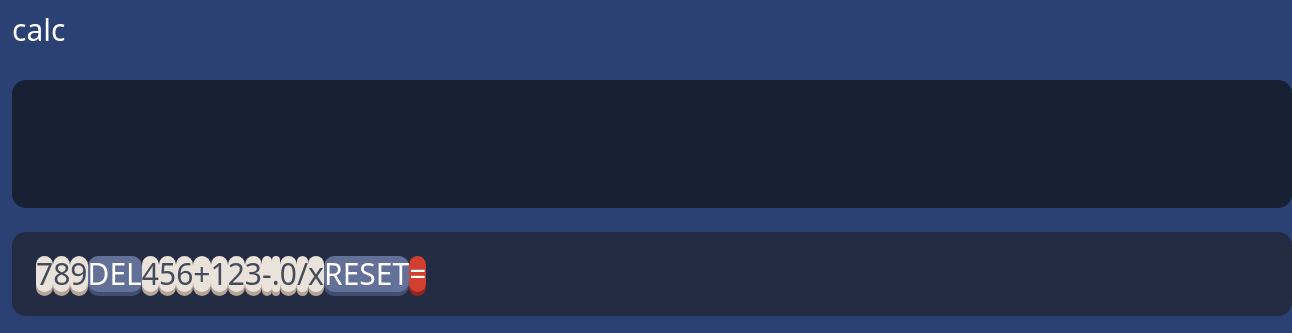
calculator › should render the pressed number
Click the button with test id "key-number" showing "2" at (236, 274), box [228, 256, 245, 292]
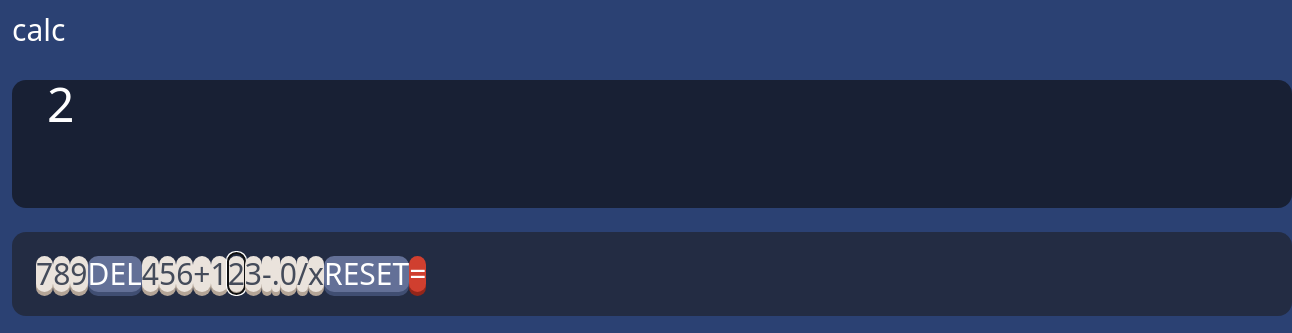
Expected: the text "2" is shown, [12, 80, 1291, 208]
Click the button with test id "key-number" showing "5" at (168, 274), box [159, 256, 176, 292]
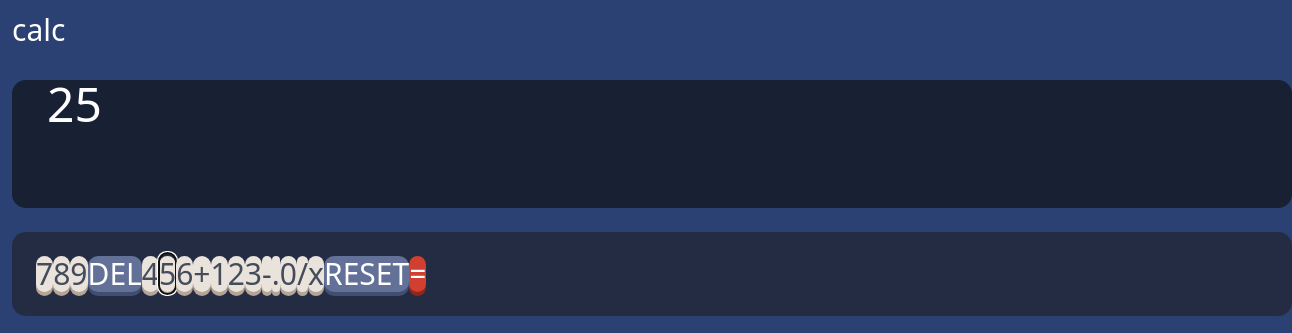
Expected: the text "25" is shown, [12, 80, 1291, 208]
